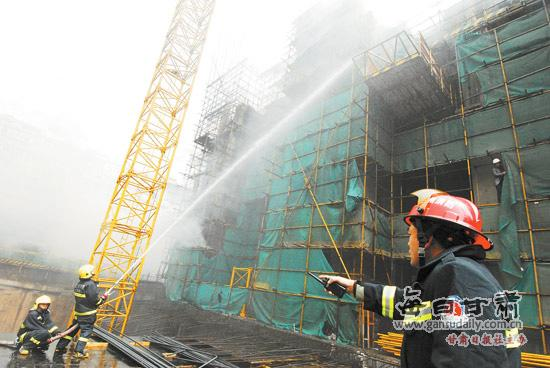helmet: (405, 187, 494, 238), (79, 263, 100, 282), (36, 293, 55, 308), (492, 158, 504, 167)
